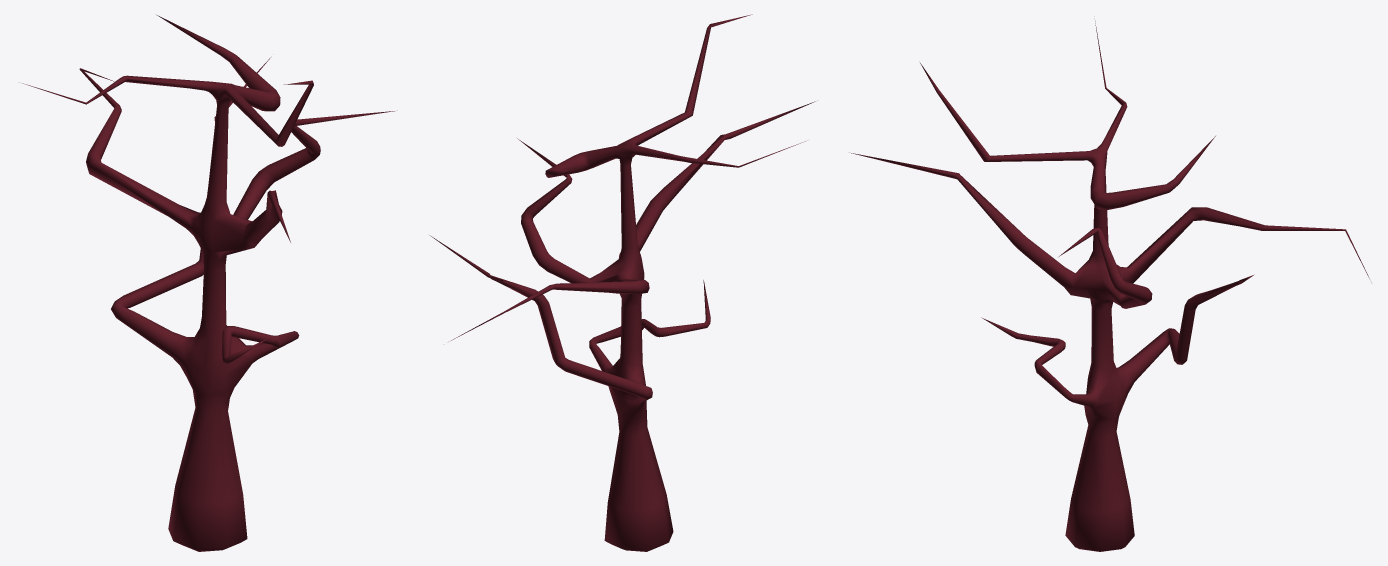
File: ArbolLP2 (1).fbx
The picture shows the model from 3 angles, left to right: view 1: azimuth 30°, elevation 25°; view 2: azimuth 150°, elevation 25°; view 3: azimuth 270°, elevation 25°; orthographic projection. The views are drawn at different scales.
Parts seen in each view (by area): view 1: Tronco; view 2: Tronco; view 3: Tronco.
Part boxes in pixels (x1=…): Tronco: x1=22, y1=15, x2=394, y2=551; Tronco: x1=430, y1=14, x2=815, y2=551; Tronco: x1=851, y1=21, x2=1369, y2=551.
Bounding box in the file's own units: 216 × 306 × 312.
